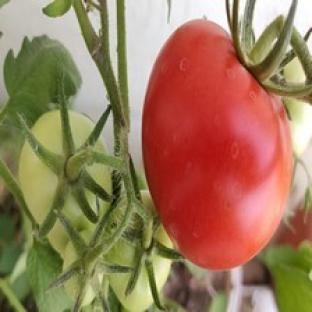Tomato: (143, 20, 292, 270), (19, 143, 58, 224), (109, 268, 153, 311), (285, 98, 311, 155), (62, 241, 77, 270)
